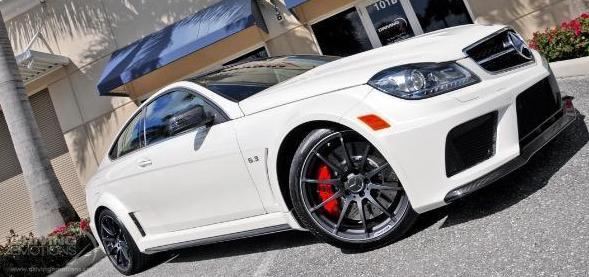C63AMG: (83, 22, 583, 277)
